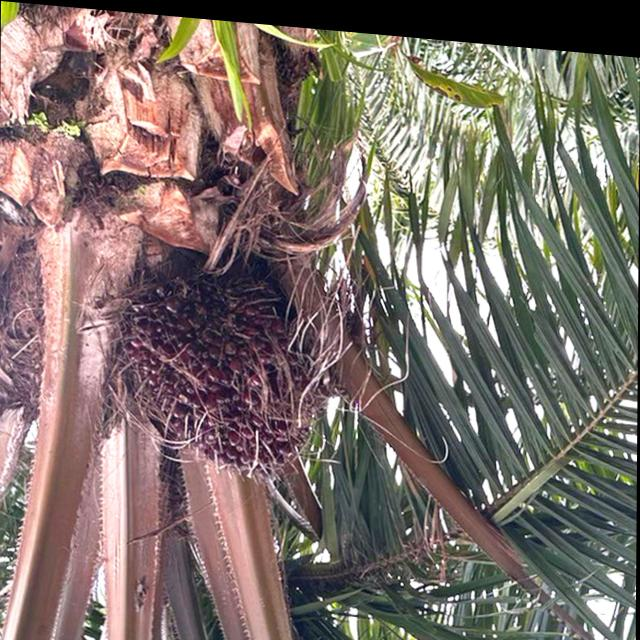ripe: (102, 250, 335, 503)
